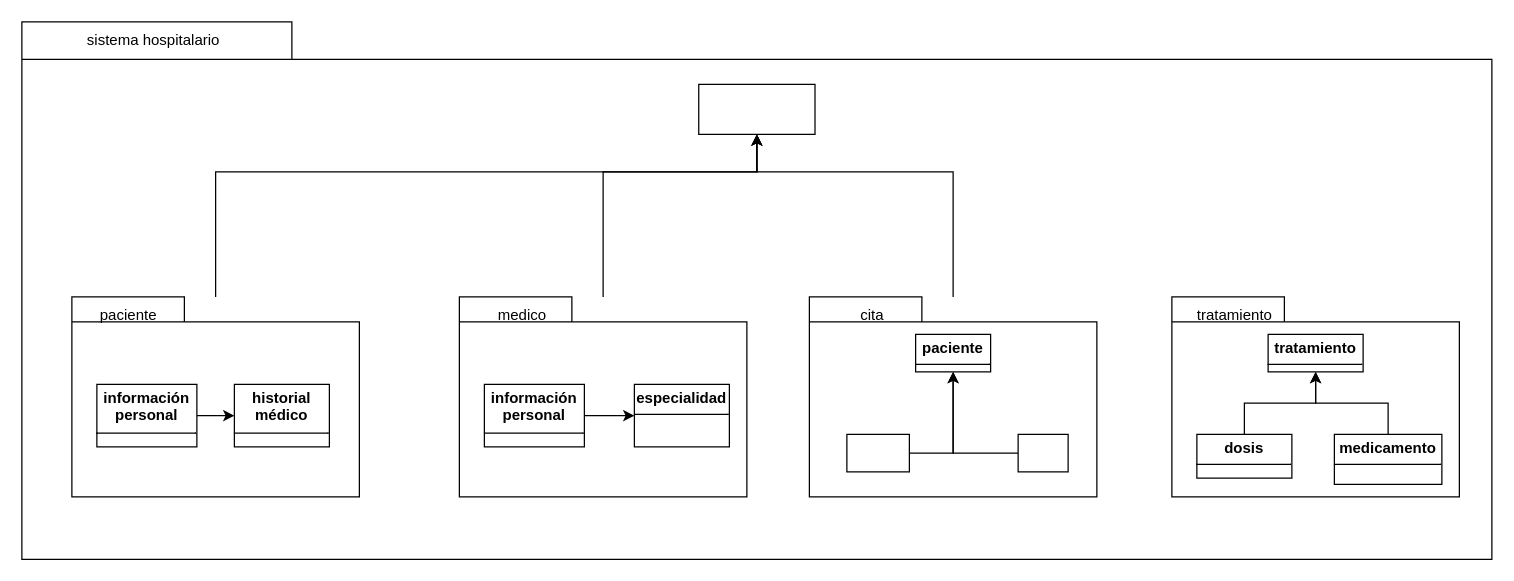
Image size: 1514x581. Some labels were removed from this diagram. Each missing label, with the box of its shape:
fecha: (846, 433, 909, 472)
hora: (1017, 433, 1068, 472)
hospital: (698, 83, 815, 134)
